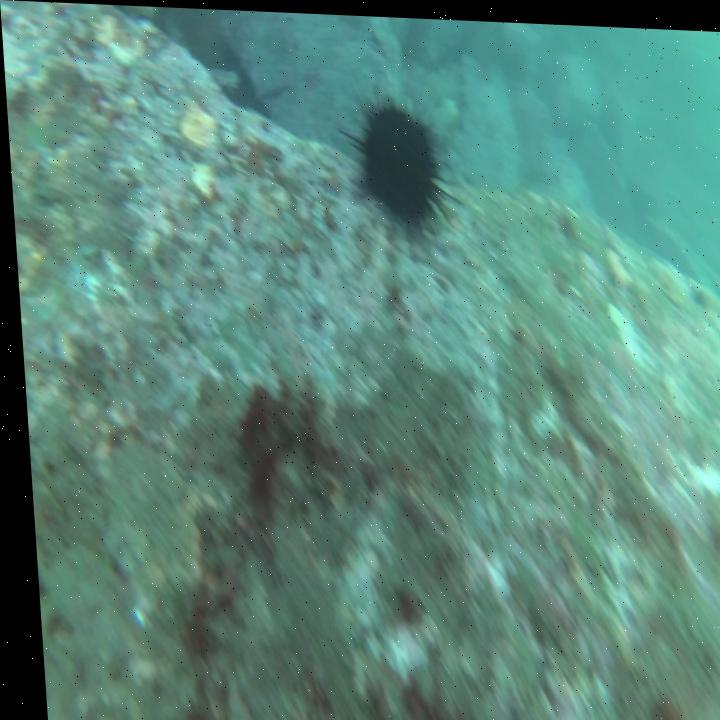starfish: (349, 79, 450, 221)
